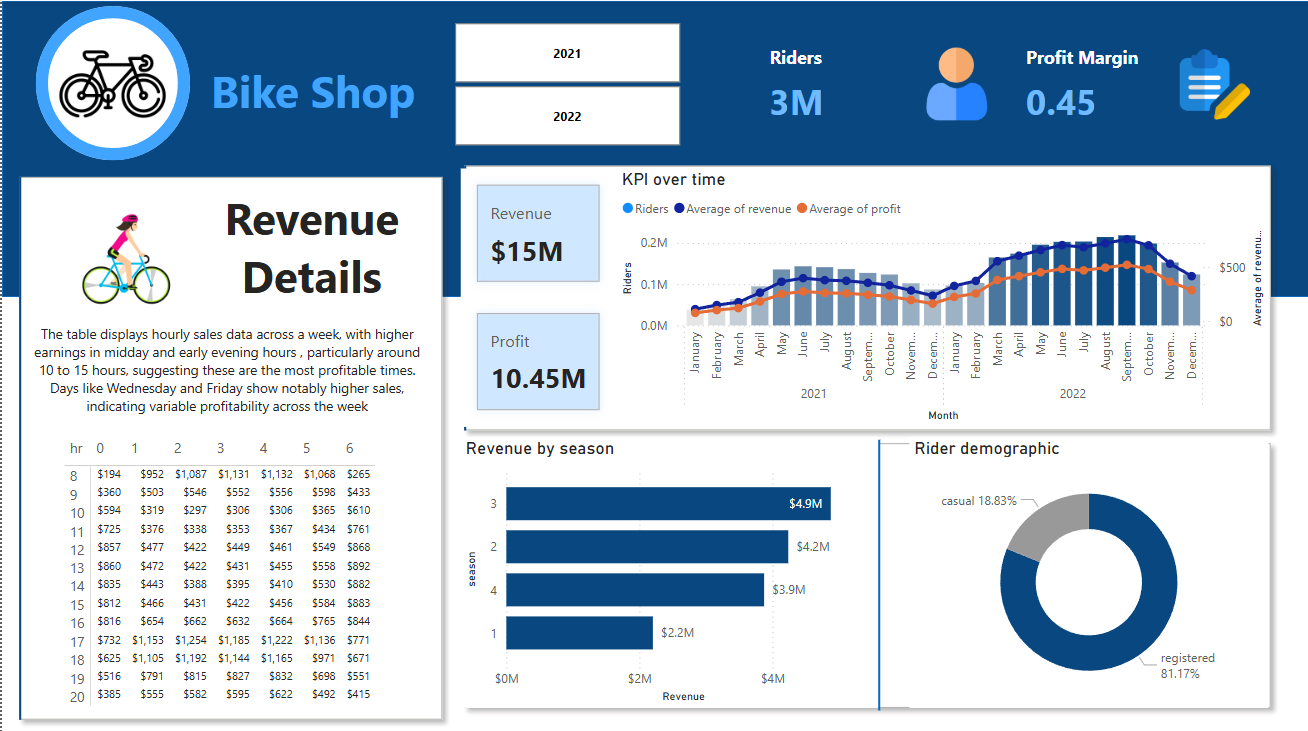

This screenshot's page, from the dashboard's own definition file:
{"tool":"powerbi","page":{"name":"Page 1","canvas":[1280,720],"ordinal":0},"visuals":[{"type":"shape","box":[0,0,1280.3,289.5],"z":0},{"type":"cardVisual","fields":{"Data":["Min(Query1.rider_type)"]},"box":[0,155.1,448.7,565.4],"z":1000},{"type":"cardVisual","fields":{"Data":["Min(Query1.rider_type)"]},"box":[435,144.1,823.3,293.7],"z":2000},{"type":"cardVisual","fields":{"Data":["Min(Query1.rider_type)"]},"box":[435,415.8,823.3,293.7],"z":3000},{"type":"cardVisual","fields":{"Data":["Min(Query1.rider_type)"]},"box":[23.3,177,201.7,148.2],"z":4000},{"type":"pivotTable","fields":{"Values":["Avg(Query1.revenue)"],"Columns":["Query1.weekday"],"Rows":["Query1.hr"]},"box":[56.3,422.6,336.2,275.8],"z":5000},{"type":"textbox","box":[23.3,311.5,393.8,104.3],"z":6000},{"type":"textbox","box":[199,177,207.2,124.9],"z":7000},{"type":"lineClusteredColumnComboChart","title":"KPI over time","fields":{"Category":["Query1.dteday.Variation.Date Hierarchy.Year","Query1.dteday.Variation.Date Hierarchy.Month","Query1.dteday.Variation.Date Hierarchy.Day"],"Y":["Sum(Query1.riders)"],"Y2":["Avg(Query1.revenue)","Avg(Query1.profit)"]},"box":[601,163.3,638.1,252.5],"z":8000},{"type":"barChart","fields":{"Category":["Query1.season"],"Y":["Sum(Query1.revenue)"]},"box":[448.7,426.8,408.9,264.8],"z":9000},{"type":"donutChart","title":"Rider demographic","fields":{"Category":["Query1.rider_type"],"Y":["Sum(Query1.riders)"]},"box":[887.8,426.8,351.3,264.8],"z":10000},{"type":"shape","box":[843.9,429.5,28.8,264.8],"z":11000},{"type":"cardVisual","title":"KPI over time","fields":{"Data":["Sum(Query1.revenue)","Sum(Query1.profit)"]},"box":[448.7,163.3,152.3,252.5],"z":12000},{"type":"cardVisual","fields":{"Data":["Sum(Query1.riders)","Query1.Profit Margin"]},"box":[734.1,17.8,505,126.2],"z":12001},{"type":"shape","box":[32.9,5.5,150.9,150.9],"z":12002},{"type":"image","box":[50.8,24.7,113.9,113.9],"z":12003},{"type":"textbox","box":[199,53.5,236,70],"z":12004},{"type":"slicer","fields":{"Values":["Query1.Year"]},"box":[417.2,15.1,270.3,133.1],"z":12005}]}

Visuals, with their boxes in screenshot pixels (x1, y1, x2, y2), scaled from the page's 1280x720 canvas onto the 1308x731 screenshot:
shape: pyautogui.locateOnScreen(0, 0, 1307, 294)
cardVisual - Min(Query1.rider_type): pyautogui.locateOnScreen(0, 157, 459, 730)
cardVisual - Min(Query1.rider_type): pyautogui.locateOnScreen(445, 146, 1286, 444)
cardVisual - Min(Query1.rider_type): pyautogui.locateOnScreen(445, 422, 1286, 720)
cardVisual - Min(Query1.rider_type): pyautogui.locateOnScreen(24, 180, 230, 330)
pivotTable - Avg(Query1.revenue) x Query1.weekday: pyautogui.locateOnScreen(58, 429, 401, 709)
textbox: pyautogui.locateOnScreen(24, 316, 426, 422)
textbox: pyautogui.locateOnScreen(203, 180, 415, 307)
"KPI over time" lineClusteredColumnComboChart: pyautogui.locateOnScreen(614, 166, 1266, 422)
barChart - Query1.season x Sum(Query1.revenue): pyautogui.locateOnScreen(459, 433, 876, 702)
"Rider demographic" donutChart: pyautogui.locateOnScreen(907, 433, 1266, 702)
shape: pyautogui.locateOnScreen(862, 436, 892, 705)
"KPI over time" cardVisual: pyautogui.locateOnScreen(459, 166, 614, 422)
cardVisual - Sum(Query1.riders) x Query1.Profit Margin: pyautogui.locateOnScreen(750, 18, 1266, 146)
shape: pyautogui.locateOnScreen(34, 6, 188, 159)
image: pyautogui.locateOnScreen(52, 25, 168, 141)
textbox: pyautogui.locateOnScreen(203, 54, 445, 125)
slicer - Query1.Year: pyautogui.locateOnScreen(426, 15, 703, 150)
